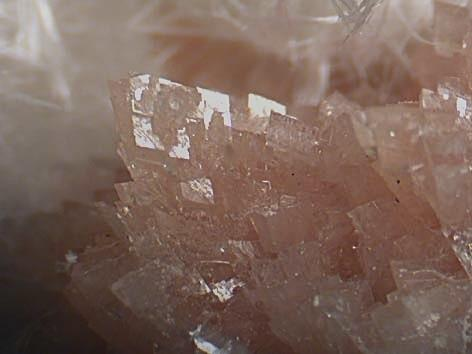calcite: (111, 74, 472, 354)
